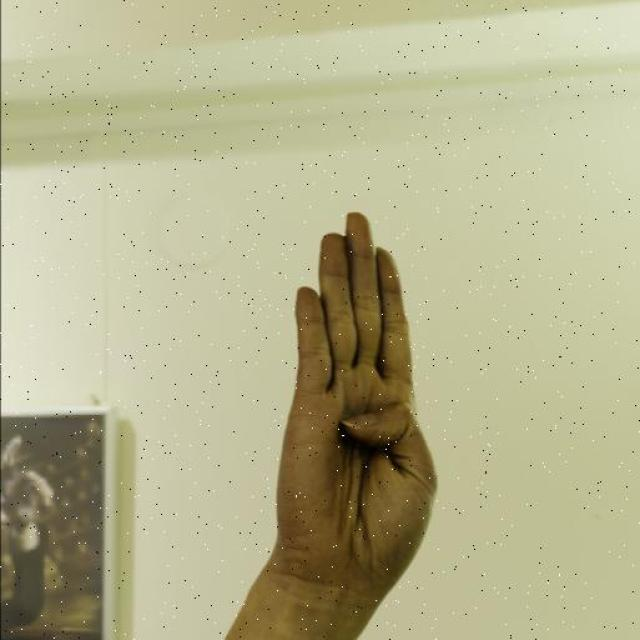B: (251, 194, 450, 625)
